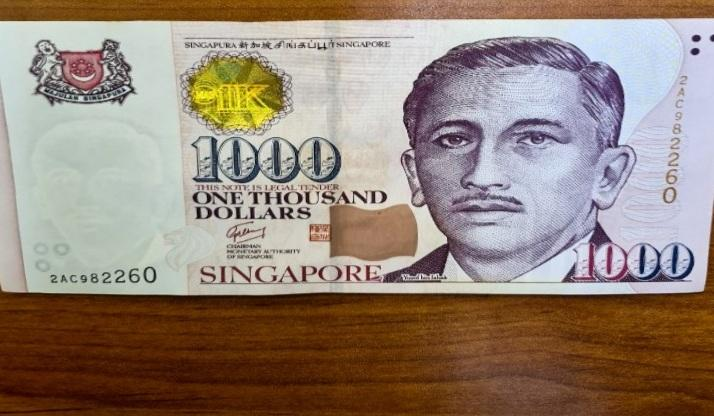1000SingaporeDollar: (0, 22, 714, 290)
